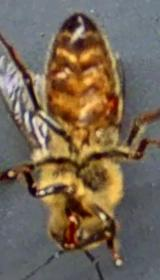varroa_mite: (98, 85, 120, 126)
